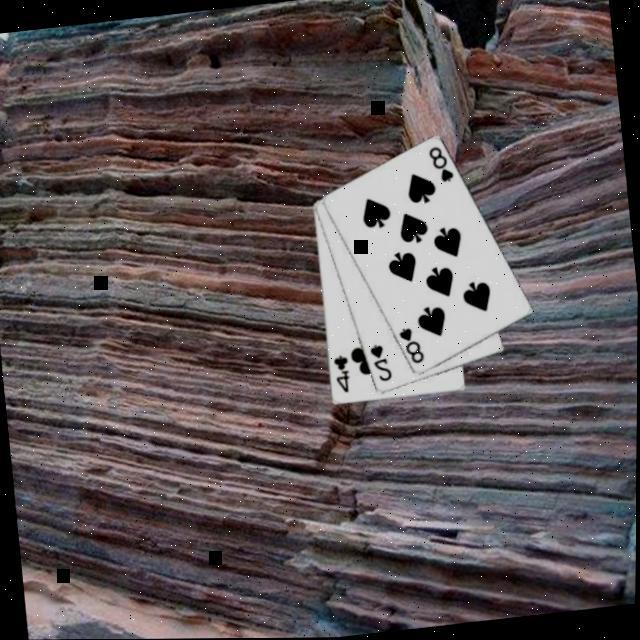2S: (368, 338, 396, 384)
4C: (331, 350, 354, 396)
8S: (426, 140, 458, 186), (396, 321, 428, 366)
